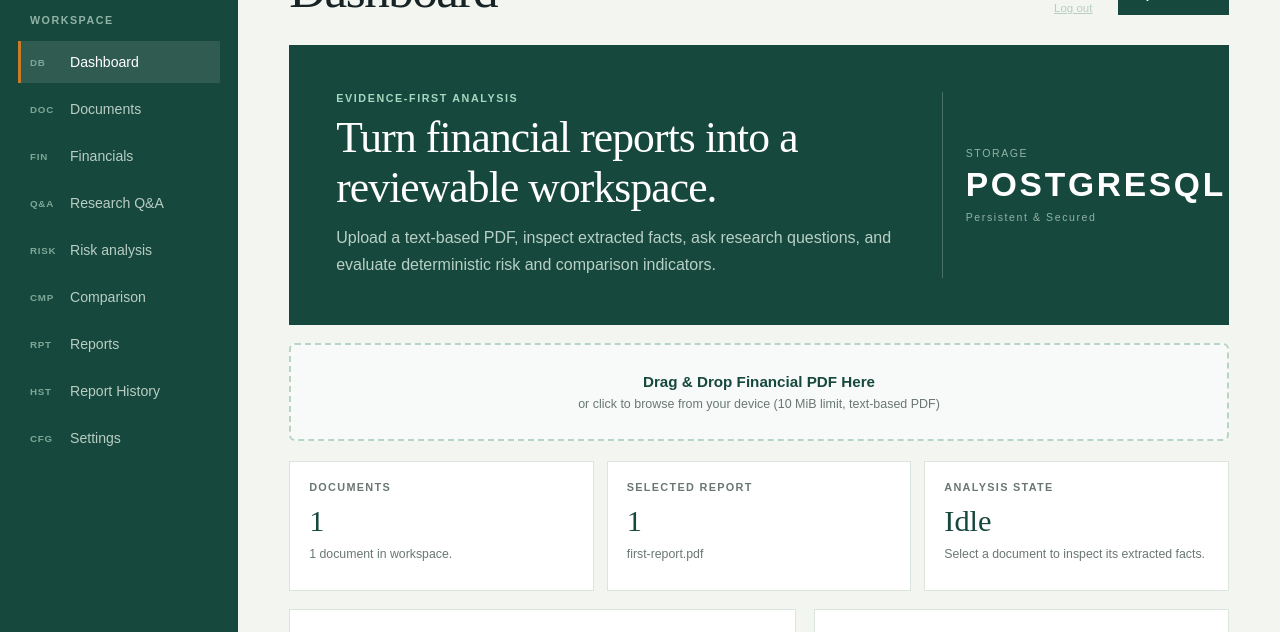
Test: FinSight dashboard › confirms deletion and refreshes the document list
Click the button "DOC Documents" at {"x": 119, "y": 109}, box left=18, top=88, right=220, bottom=130
(page scrolled)
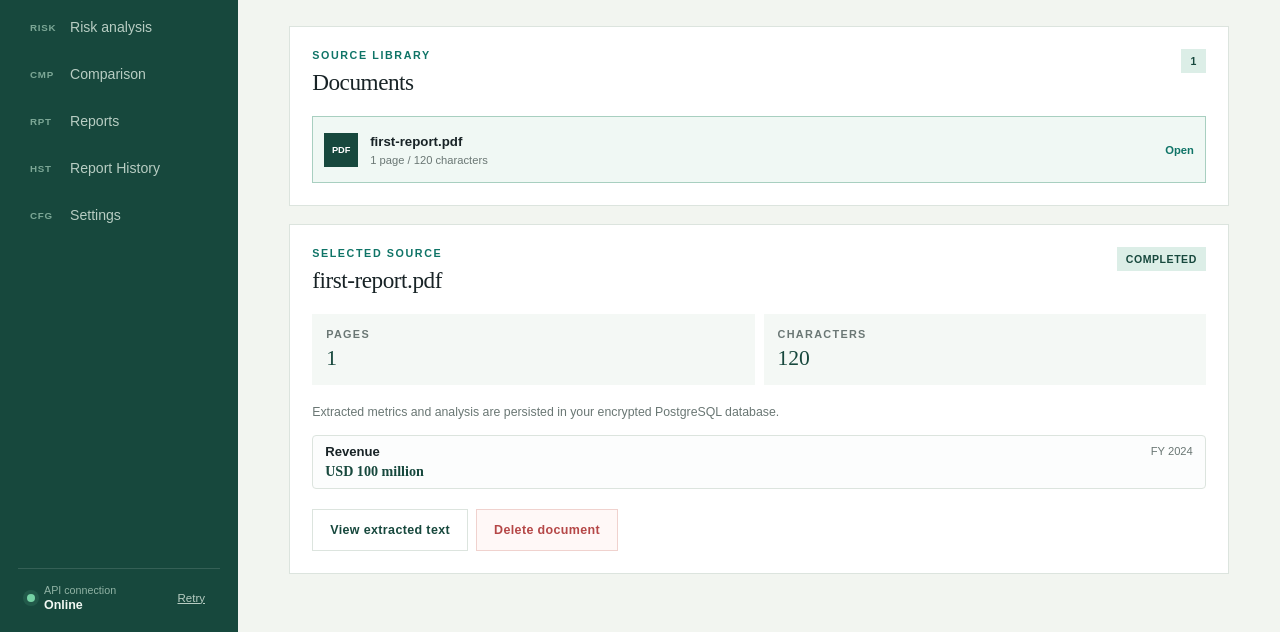
Click the button "Delete document" at {"x": 547, "y": 530}, box left=476, top=509, right=618, bottom=551
(page scrolled)
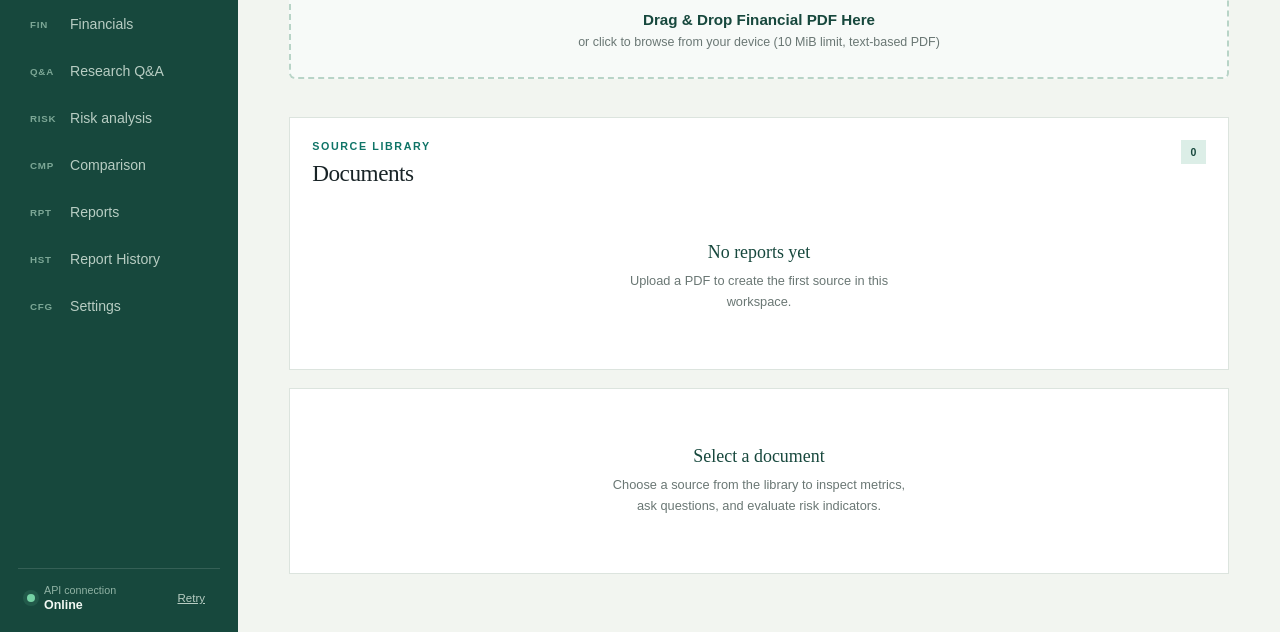
Now the text "No reports yet" is shown, box left=708, top=242, right=810, bottom=262
